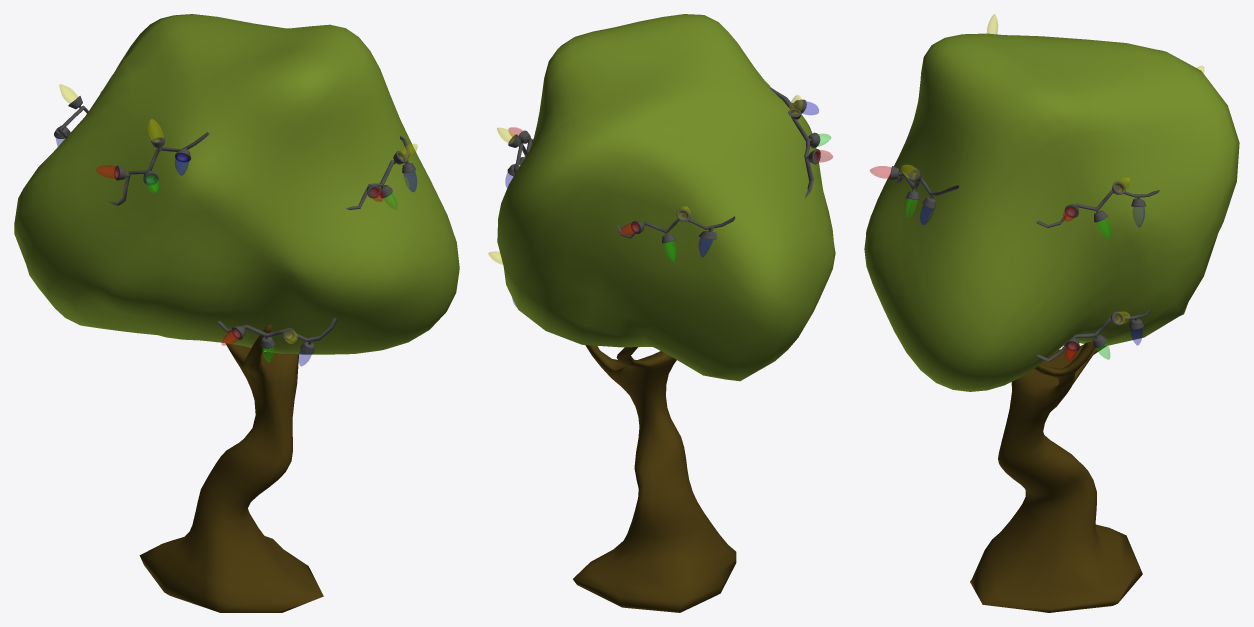
Rendered from Arbol3 Luces.fbx.
3 renders of one model, left to right at view 1: azimuth 30°, elevation 25°; view 2: azimuth 150°, elevation 25°; view 3: azimuth 270°, elevation 25°, orthographic. The views are drawn at different scales.
Visible parts, largest first — view 1: Tronco2; view 2: Tronco2; view 3: Tronco2.
Part boxes in pixels (x1,y1,x2,y2): Tronco2: [14, 14, 459, 612]; Tronco2: [488, 14, 835, 612]; Tronco2: [864, 14, 1239, 612].
Bounding box in the file's own units: 9.35 × 14.18 × 8.72.
